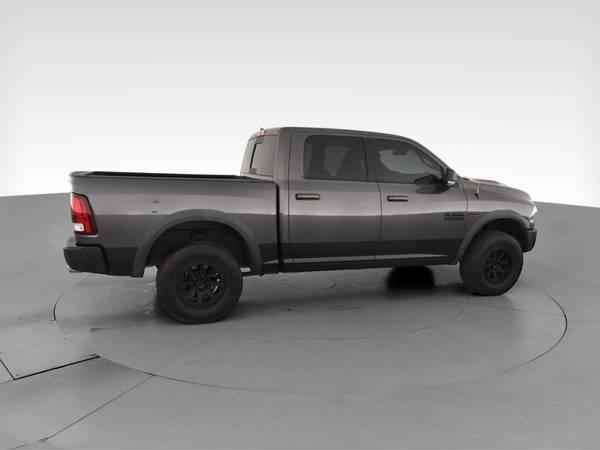Front_Bumper: (528, 228, 536, 251)
Front_Fender: (458, 179, 534, 250)
Front_Right_Door: (376, 183, 467, 262)
Front_Right_Window: (369, 136, 455, 186)
Rear_Bumper: (60, 238, 106, 274)
Rear_Fender: (70, 173, 281, 277)
Rear_Right_Door: (277, 179, 382, 267)
Rear_Right_Window: (306, 135, 373, 180)
Rear_Windshield: (239, 130, 278, 181)
Right_Taillight: (68, 195, 96, 235)
Roof: (275, 126, 457, 182)
Wheel: (152, 242, 243, 324), (462, 230, 525, 295)
